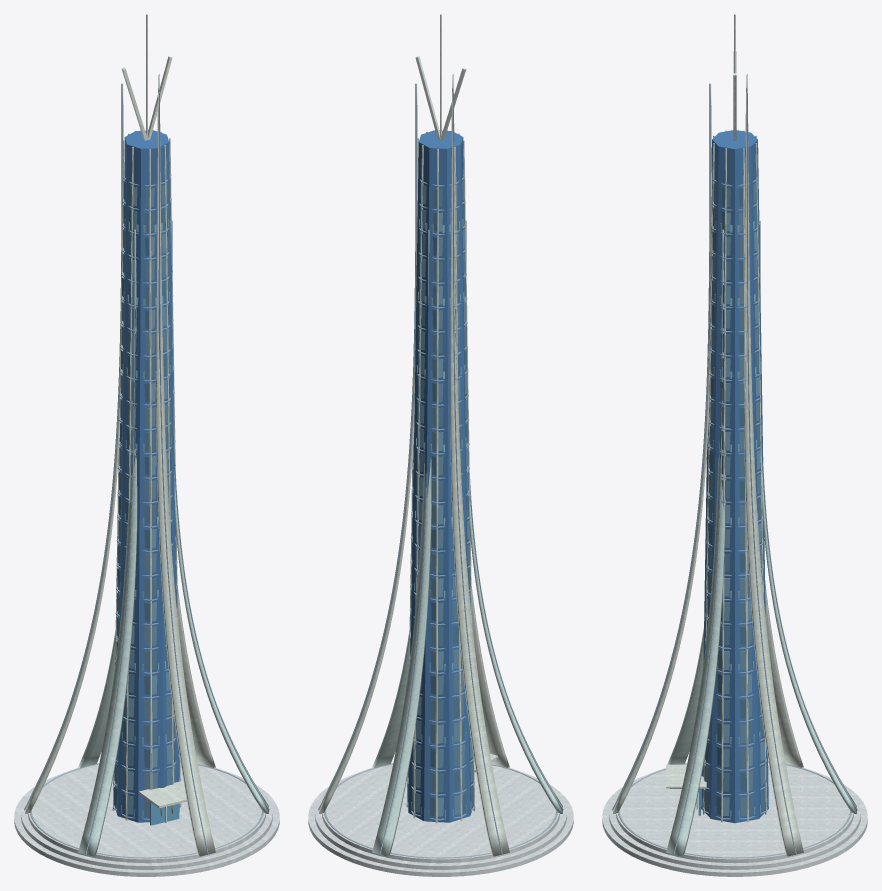
Rendered from landmark_liuli-exterior-refined-v1.glb.
The picture shows the model from 3 angles, left to right: view 1: azimuth 30°, elevation 25°; view 2: azimuth 150°, elevation 25°; view 3: azimuth 270°, elevation 25°; orthographic projection.
Parts seen in each view (by area): view 1: landmark_liuli_01_原有建筑轮廓与构件_EX_e1ece5_grey_plaster_surface, landmark_liuli_01_原有建筑轮廓与构件_EX_548cc4_plain_surface, landmark_liuli_01_原有建筑轮廓与构件_EX_dfe7ea_grey_plaster_surface, landmark_liuli_01_原有建筑轮廓与构件_EX_d5f0ed_grey_plaster_surface, landmark_liuli_01_原有建筑轮廓与构件_EX_9ebdd4_plain_surface, landmark_liuli_01_原有建筑轮廓与构件_EX_95b7d2_plain_surface, landmark_liuli_21_分层幕墙与金属压条_7_EX_739fbb_plain_window, landmark_liuli_21_分层幕墙与金属压条_7_EX_7eabc7_plain_window, landmark_liuli_21_分层幕墙与金属压条_7_EX_608fae_plain_window, landmark_liuli_21_分层幕墙与金属压条_0_EX_739fbb_plain_window, landmark_liuli_21_分层幕墙与金属压条_0_EX_7eabc7_plain_window, landmark_liuli_21_分层幕墙与金属压条_0_EX_608fae_plain_window (+5 smaller); view 2: landmark_liuli_01_原有建筑轮廓与构件_EX_548cc4_plain_surface, landmark_liuli_01_原有建筑轮廓与构件_EX_e1ece5_grey_plaster_surface, landmark_liuli_01_原有建筑轮廓与构件_EX_dfe7ea_grey_plaster_surface, landmark_liuli_01_原有建筑轮廓与构件_EX_d5f0ed_grey_plaster_surface, landmark_liuli_01_原有建筑轮廓与构件_EX_9ebdd4_plain_surface, landmark_liuli_01_原有建筑轮廓与构件_EX_95b7d2_plain_surface, landmark_liuli_21_分层幕墙与金属压条_4_EX_739fbb_plain_window, landmark_liuli_21_分层幕墙与金属压条_4_EX_7eabc7_plain_window, landmark_liuli_21_分层幕墙与金属压条_5_EX_7eabc7_plain_window, landmark_liuli_21_分层幕墙与金属压条_5_EX_608fae_plain_window, landmark_liuli_21_分层幕墙与金属压条_4_EX_608fae_plain_window, landmark_liuli_21_分层幕墙与金属压条_5_EX_739fbb_plain_window (+5 smaller); view 3: landmark_liuli_01_原有建筑轮廓与构件_EX_548cc4_plain_surface, landmark_liuli_01_原有建筑轮廓与构件_EX_e1ece5_grey_plaster_surface, landmark_liuli_01_原有建筑轮廓与构件_EX_dfe7ea_grey_plaster_surface, landmark_liuli_01_原有建筑轮廓与构件_EX_d5f0ed_grey_plaster_surface, landmark_liuli_01_原有建筑轮廓与构件_EX_9ebdd4_plain_surface, landmark_liuli_21_分层幕墙与金属压条_2_EX_608fae_plain_window, landmark_liuli_21_分层幕墙与金属压条_2_EX_7eabc7_plain_window, landmark_liuli_01_原有建筑轮廓与构件_EX_95b7d2_plain_surface, landmark_liuli_21_分层幕墙与金属压条_2_EX_739fbb_plain_window, landmark_liuli_21_分层幕墙与金属压条_1_EX_739fbb_plain_window, landmark_liuli_21_分层幕墙与金属压条_1_EX_7eabc7_plain_window, landmark_liuli_21_分层幕墙与金属压条_1_EX_608fae_plain_window (+5 smaller).
Boxes of the visible parts, box(x1,y1,x2,y2) form: landmark_liuli_01_原有建筑轮廓与构件_EX_e1ece5_grey_plaster_surface: box(25, 14, 215, 856); landmark_liuli_01_原有建筑轮廓与构件_EX_548cc4_plain_surface: box(114, 130, 179, 822); landmark_liuli_01_原有建筑轮廓与构件_EX_dfe7ea_grey_plaster_surface: box(14, 762, 279, 876); landmark_liuli_01_原有建筑轮廓与构件_EX_d5f0ed_grey_plaster_surface: box(78, 221, 268, 856); landmark_liuli_01_原有建筑轮廓与构件_EX_9ebdd4_plain_surface: box(24, 74, 269, 854); landmark_liuli_01_原有建筑轮廓与构件_EX_95b7d2_plain_surface: box(112, 174, 181, 820); landmark_liuli_21_分层幕墙与金属压条_7_EX_739fbb_plain_window: box(127, 211, 150, 816); landmark_liuli_21_分层幕墙与金属压条_7_EX_7eabc7_plain_window: box(127, 187, 150, 790); landmark_liuli_21_分层幕墙与金属压条_7_EX_608fae_plain_window: box(127, 235, 150, 767); landmark_liuli_21_分层幕墙与金属压条_0_EX_739fbb_plain_window: box(151, 185, 172, 789); landmark_liuli_21_分层幕墙与金属压条_0_EX_7eabc7_plain_window: box(151, 234, 172, 767); landmark_liuli_21_分层幕墙与金属压条_0_EX_608fae_plain_window: box(151, 209, 171, 743); landmark_liuli_01_原有建筑轮廓与构件_EX_548cc4_plain_surface: box(408, 130, 473, 822); landmark_liuli_01_原有建筑轮廓与构件_EX_e1ece5_grey_plaster_surface: box(319, 14, 509, 856); landmark_liuli_01_原有建筑轮廓与构件_EX_dfe7ea_grey_plaster_surface: box(308, 763, 573, 876); landmark_liuli_01_原有建筑轮廓与构件_EX_d5f0ed_grey_plaster_surface: box(372, 230, 562, 856); landmark_liuli_01_原有建筑轮廓与构件_EX_9ebdd4_plain_surface: box(318, 74, 563, 854); landmark_liuli_01_原有建筑轮廓与构件_EX_95b7d2_plain_surface: box(406, 175, 475, 820); landmark_liuli_21_分层幕墙与金属压条_4_EX_739fbb_plain_window: box(415, 209, 436, 816); landmark_liuli_21_分层幕墙与金属压条_4_EX_7eabc7_plain_window: box(415, 185, 436, 792); landmark_liuli_21_分层幕墙与金属压条_5_EX_7eabc7_plain_window: box(437, 212, 460, 816); landmark_liuli_21_分层幕墙与金属压条_5_EX_608fae_plain_window: box(437, 187, 460, 792); landmark_liuli_21_分层幕墙与金属压条_4_EX_608fae_plain_window: box(415, 234, 436, 767); landmark_liuli_21_分层幕墙与金属压条_5_EX_739fbb_plain_window: box(437, 237, 460, 767); landmark_liuli_01_原有建筑轮廓与构件_EX_548cc4_plain_surface: box(701, 130, 768, 823); landmark_liuli_01_原有建筑轮廓与构件_EX_e1ece5_grey_plaster_surface: box(613, 14, 803, 856); landmark_liuli_01_原有建筑轮廓与构件_EX_dfe7ea_grey_plaster_surface: box(602, 762, 867, 876); landmark_liuli_01_原有建筑轮廓与构件_EX_d5f0ed_grey_plaster_surface: box(666, 221, 856, 856); landmark_liuli_01_原有建筑轮廓与构件_EX_9ebdd4_plain_surface: box(612, 74, 857, 854); landmark_liuli_21_分层幕墙与金属压条_2_EX_608fae_plain_window: box(723, 188, 746, 791); landmark_liuli_21_分层幕墙与金属压条_2_EX_7eabc7_plain_window: box(723, 212, 746, 815); landmark_liuli_01_原有建筑轮廓与构件_EX_95b7d2_plain_surface: box(702, 179, 767, 819); landmark_liuli_21_分层幕墙与金属压条_2_EX_739fbb_plain_window: box(723, 237, 746, 767); landmark_liuli_21_分层幕墙与金属压条_1_EX_739fbb_plain_window: box(704, 207, 724, 815); landmark_liuli_21_分层幕墙与金属压条_1_EX_7eabc7_plain_window: box(704, 183, 724, 790); landmark_liuli_21_分层幕墙与金属压条_1_EX_608fae_plain_window: box(705, 231, 724, 766).
Bounding box in the file's own units: 13.72 × 45.97 × 13.72.
14 materials, 3 textured.
